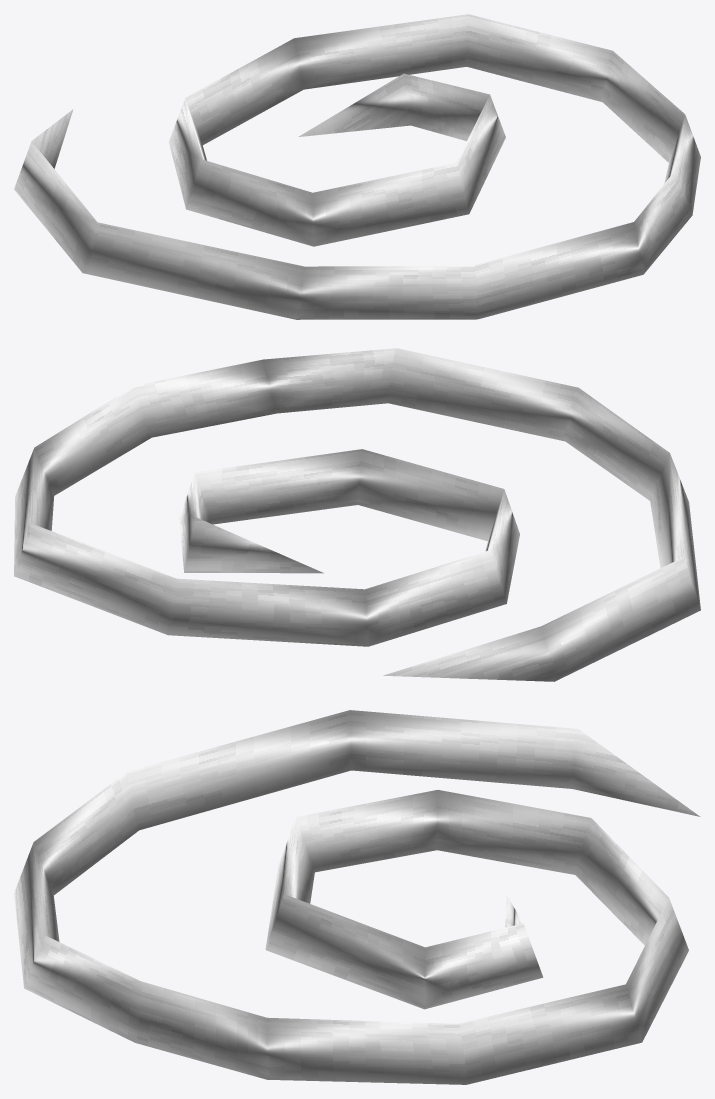
The model's file is cord.obj.
3 renders of one model, top to bottom at view 1: azimuth 30°, elevation 25°; view 2: azimuth 150°, elevation 25°; view 3: azimuth 270°, elevation 25°, orthographic. The views are drawn at different scales.
Visible parts, largest first — view 1: Cylinder01; view 2: Cylinder01; view 3: Cylinder01.
Part boxes in pixels (<box>): Cylinder01: <box>14,14,700,319</box>; Cylinder01: <box>14,348,700,681</box>; Cylinder01: <box>14,710,700,1084</box>.
Size of the model in its own units: 28.07 by 2.11 by 24.67.
